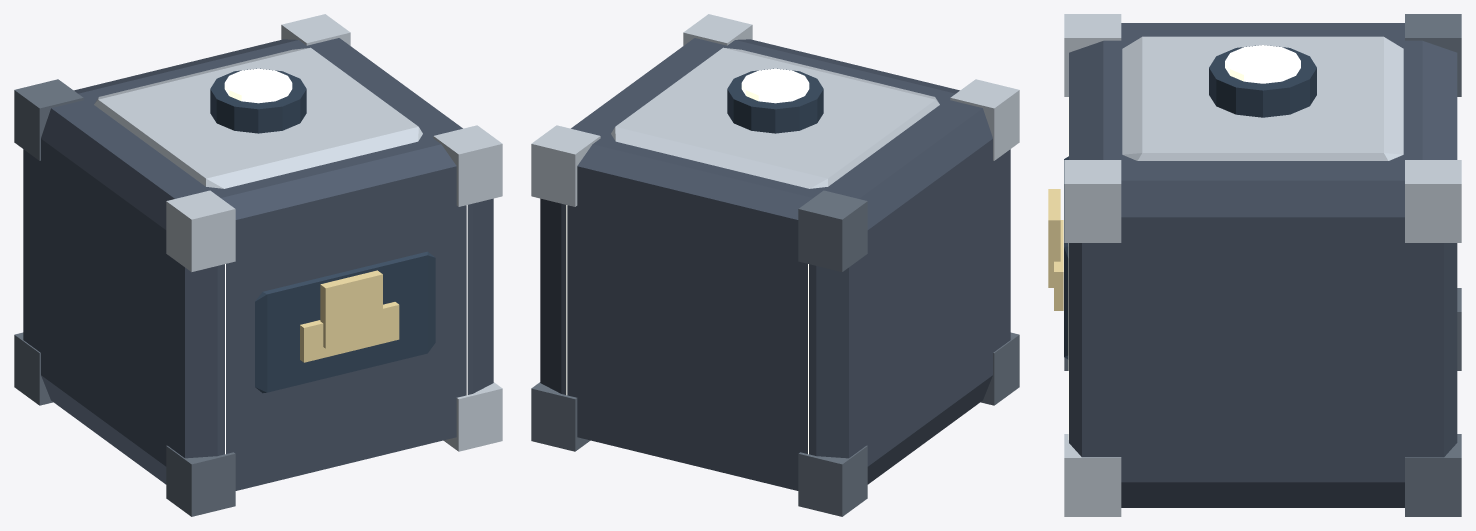
The model's file is box_bonus.glb.
3 renders of one model, left to right at view 1: azimuth 30°, elevation 25°; view 2: azimuth 150°, elevation 25°; view 3: azimuth 270°, elevation 25°, orthographic. The views are drawn at different scales.
Parts seen in each view (by area): view 1: sci_fi_chassis, reinforced_lid, front_interface_armor, outer_corner_joint_011, bonus_front_emblem, outer_corner_joint_010, outer_corner_joint_111, top_lock, outer_corner_joint_001, outer_corner_joint_110, front_hologram_window, top_lock_energy (+2 smaller); view 2: sci_fi_chassis, reinforced_lid, outer_corner_joint_001, outer_corner_joint_000, outer_corner_joint_101, top_lock, outer_corner_joint_011, outer_corner_joint_100, top_lock_energy, outer_corner_joint_010, outer_corner_joint_111; view 3: sci_fi_chassis, reinforced_lid, outer_corner_joint_111, outer_corner_joint_101, top_lock, outer_corner_joint_110, outer_corner_joint_100, top_lock_energy, outer_corner_joint_011, outer_corner_joint_001, bonus_front_emblem, front_interface_armor (+1 smaller).
Boxes of the visible parts, x1,y1,x2,y2 form: sci_fi_chassis: (23, 38, 493, 490); reinforced_lid: (94, 47, 422, 188); front_interface_armor: (255, 251, 435, 393); outer_corner_joint_011: (166, 190, 235, 271); bonus_front_emblem: (320, 270, 382, 348); outer_corner_joint_010: (166, 445, 235, 516); outer_corner_joint_111: (433, 125, 502, 206); top_lock: (210, 68, 306, 133); outer_corner_joint_001: (14, 79, 83, 160); outer_corner_joint_110: (443, 382, 502, 451); front_hologram_window: (300, 302, 399, 362); top_lock_energy: (224, 68, 292, 103); sci_fi_chassis: (540, 38, 1010, 490); reinforced_lid: (611, 47, 939, 188); outer_corner_joint_001: (798, 190, 867, 271); outer_corner_joint_000: (798, 445, 867, 516); outer_corner_joint_101: (531, 125, 600, 206); top_lock: (727, 68, 823, 133); outer_corner_joint_011: (950, 79, 1019, 160); outer_corner_joint_100: (531, 382, 590, 451); top_lock_energy: (741, 68, 809, 103); outer_corner_joint_010: (981, 332, 1019, 405); outer_corner_joint_111: (683, 14, 752, 45); sci_fi_chassis: (1069, 23, 1457, 507); reinforced_lid: (1122, 36, 1403, 160); outer_corner_joint_111: (1064, 160, 1121, 242); outer_corner_joint_101: (1405, 160, 1461, 242); top_lock: (1209, 45, 1316, 117); outer_corner_joint_110: (1064, 434, 1121, 516); outer_corner_joint_100: (1405, 434, 1461, 516); top_lock_energy: (1225, 45, 1300, 83); outer_corner_joint_011: (1064, 14, 1121, 96); outer_corner_joint_001: (1405, 14, 1461, 96); bonus_front_emblem: (1048, 189, 1060, 287); front_interface_armor: (1064, 156, 1068, 359).
Size of the model in its own units: 1.49 by 1.51 by 1.53.
